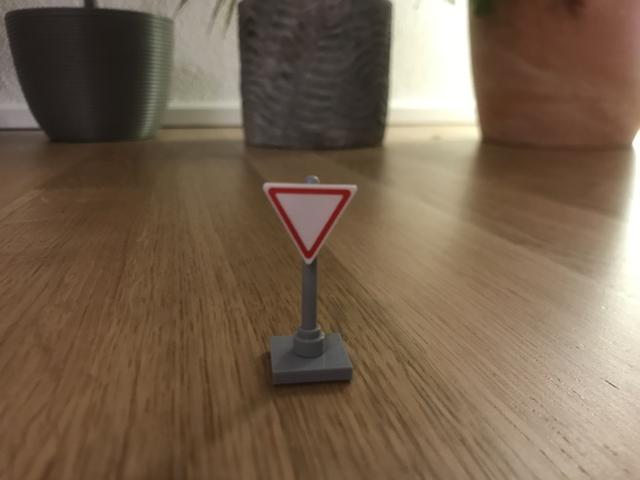vorfahrt gewähren: (261, 179, 356, 266)
